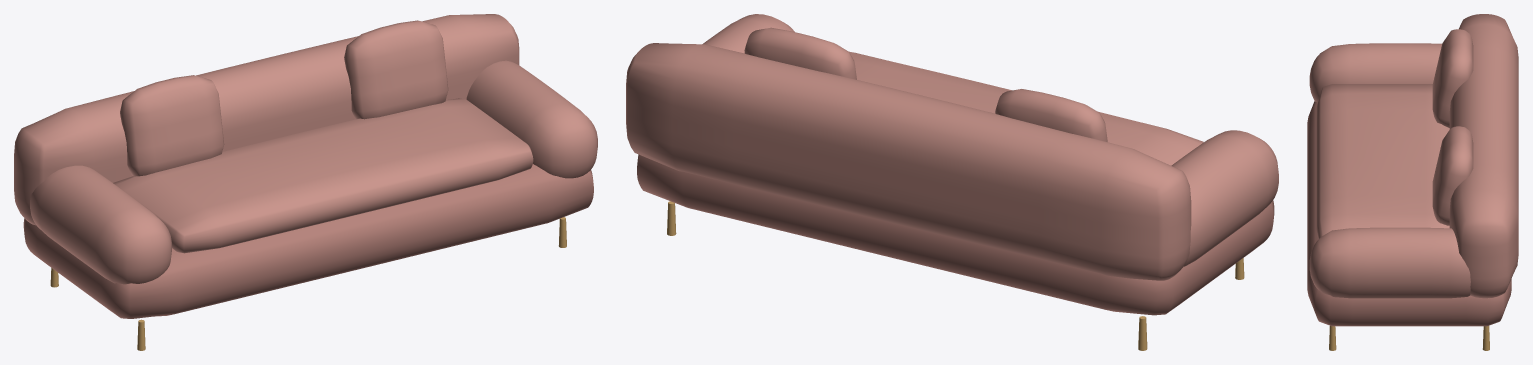
The model's file is sofa_round.glb.
The picture shows the model from 3 angles, left to right: view 1: azimuth 30°, elevation 25°; view 2: azimuth 150°, elevation 25°; view 3: azimuth 270°, elevation 25°; orthographic projection. The views are drawn at different scales.
Parts seen in each view (by area): view 1: soft.004, soft, soft.001, soft.002, soft.003, soft.005, soft.006; view 2: soft.001, soft, soft.002, soft.004, soft.005, soft.006, soft.003; view 3: soft.004, soft.001, soft.003, soft, soft.002, soft.006, soft.005, cyl.002, cyl.003.
Part boxes in pixels (x1=…): soft.004: x1=113, y1=98, x2=533, y2=253; soft: x1=23, y1=164, x2=593, y2=318; soft.001: x1=14, y1=14, x2=519, y2=225; soft.002: x1=30, y1=165, x2=171, y2=284; soft.003: x1=466, y1=60, x2=597, y2=178; soft.005: x1=120, y1=75, x2=224, y2=176; soft.006: x1=344, y1=20, x2=448, y2=119; soft.001: x1=626, y1=43, x2=1191, y2=280; soft: x1=637, y1=154, x2=1274, y2=315; soft.002: x1=1171, y1=130, x2=1278, y2=266; soft.004: x1=849, y1=51, x2=1203, y2=165; soft.005: x1=995, y1=89, x2=1107, y2=141; soft.006: x1=744, y1=27, x2=856, y2=79; soft.003: x1=702, y1=14, x2=794, y2=53; soft.004: x1=1316, y1=84, x2=1449, y2=238; soft.001: x1=1449, y1=14, x2=1518, y2=298; soft.003: x1=1309, y1=227, x2=1470, y2=298; soft: x1=1307, y1=101, x2=1511, y2=326; soft.002: x1=1309, y1=43, x2=1441, y2=102; soft.006: x1=1432, y1=126, x2=1473, y2=225; soft.005: x1=1432, y1=29, x2=1473, y2=127; cyl.002: x1=1329, y1=325, x2=1336, y2=350; cyl.003: x1=1482, y1=326, x2=1489, y2=350.
Bounding box in the file's own units: 220 × 81.67 × 91.99.
